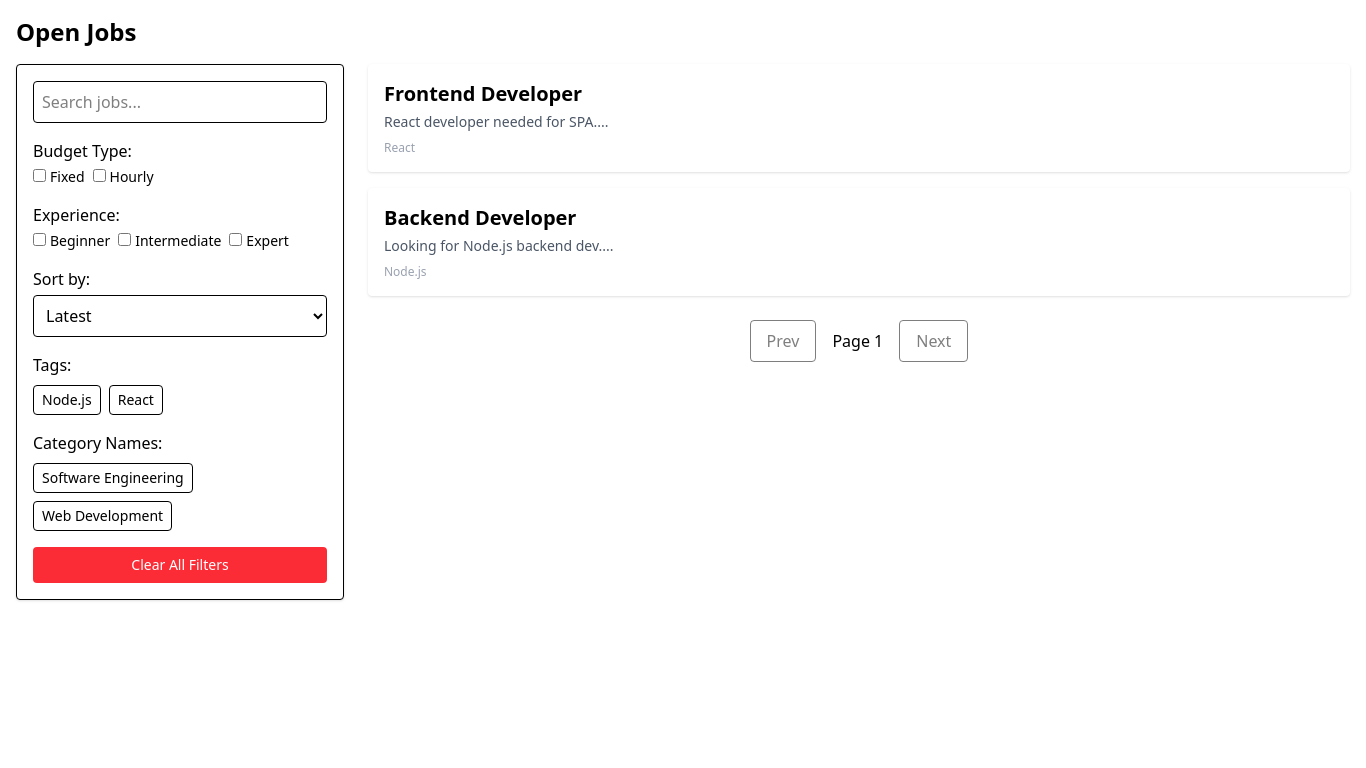
Test: OpenJobsPage – Filters › clears tag filter and shows all jobs again
Expected: the heading "Frontend Developer" is shown, [384,80,582,107]
Expected: the heading "Backend Developer" is shown, [384,204,576,231]
Click the button "React" at (136,400), box [109,385,163,415]
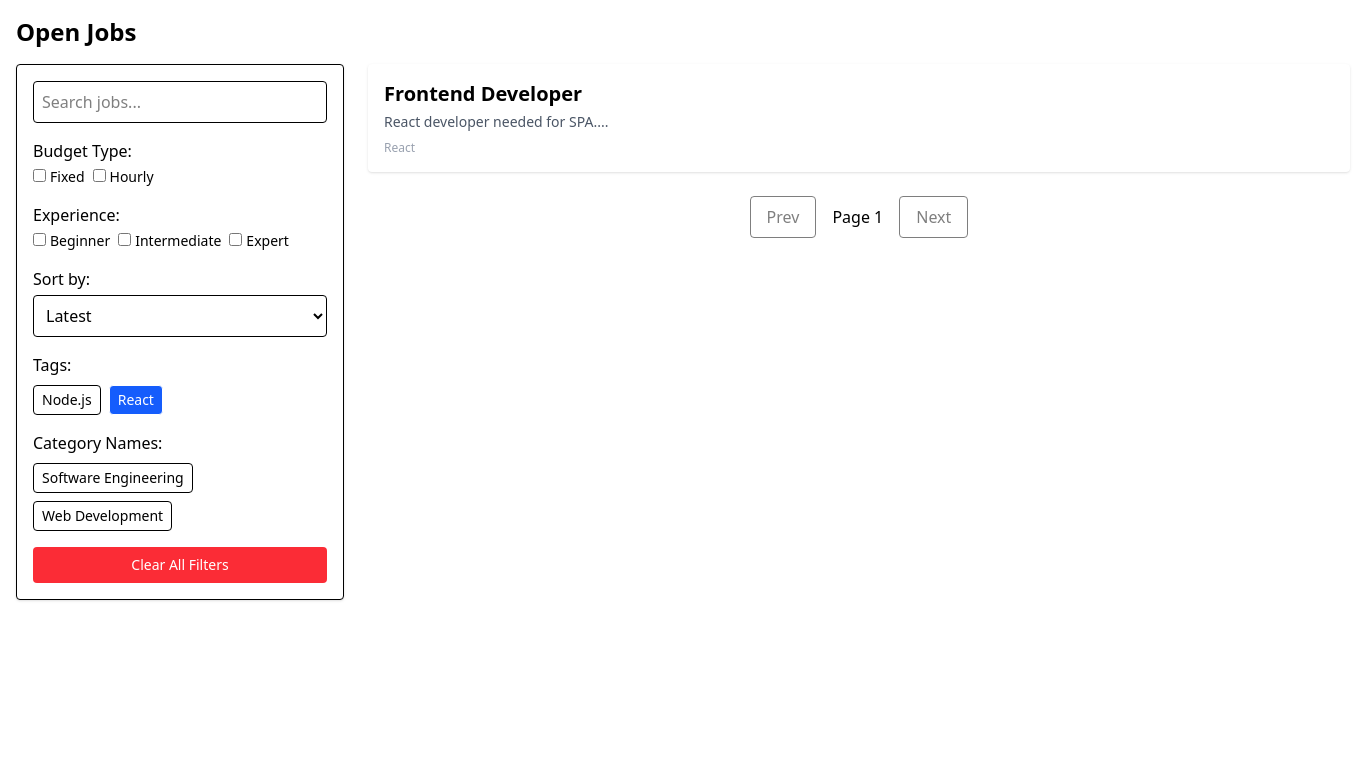
Click the button "React" at (136,400), box [109,385,163,415]
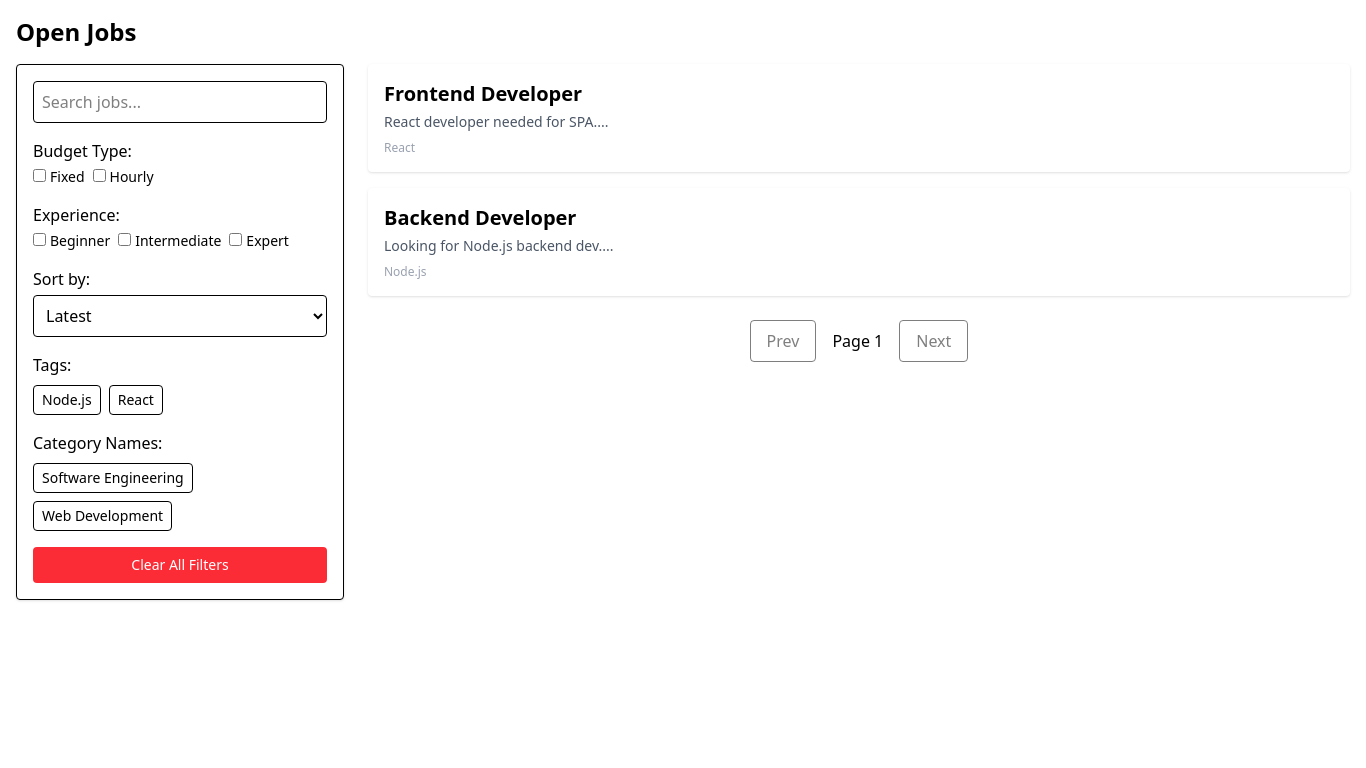
Expected: the heading "Frontend Developer" is shown, [384,80,582,107]
Now the heading "Backend Developer" is shown, box [384,204,576,231]
